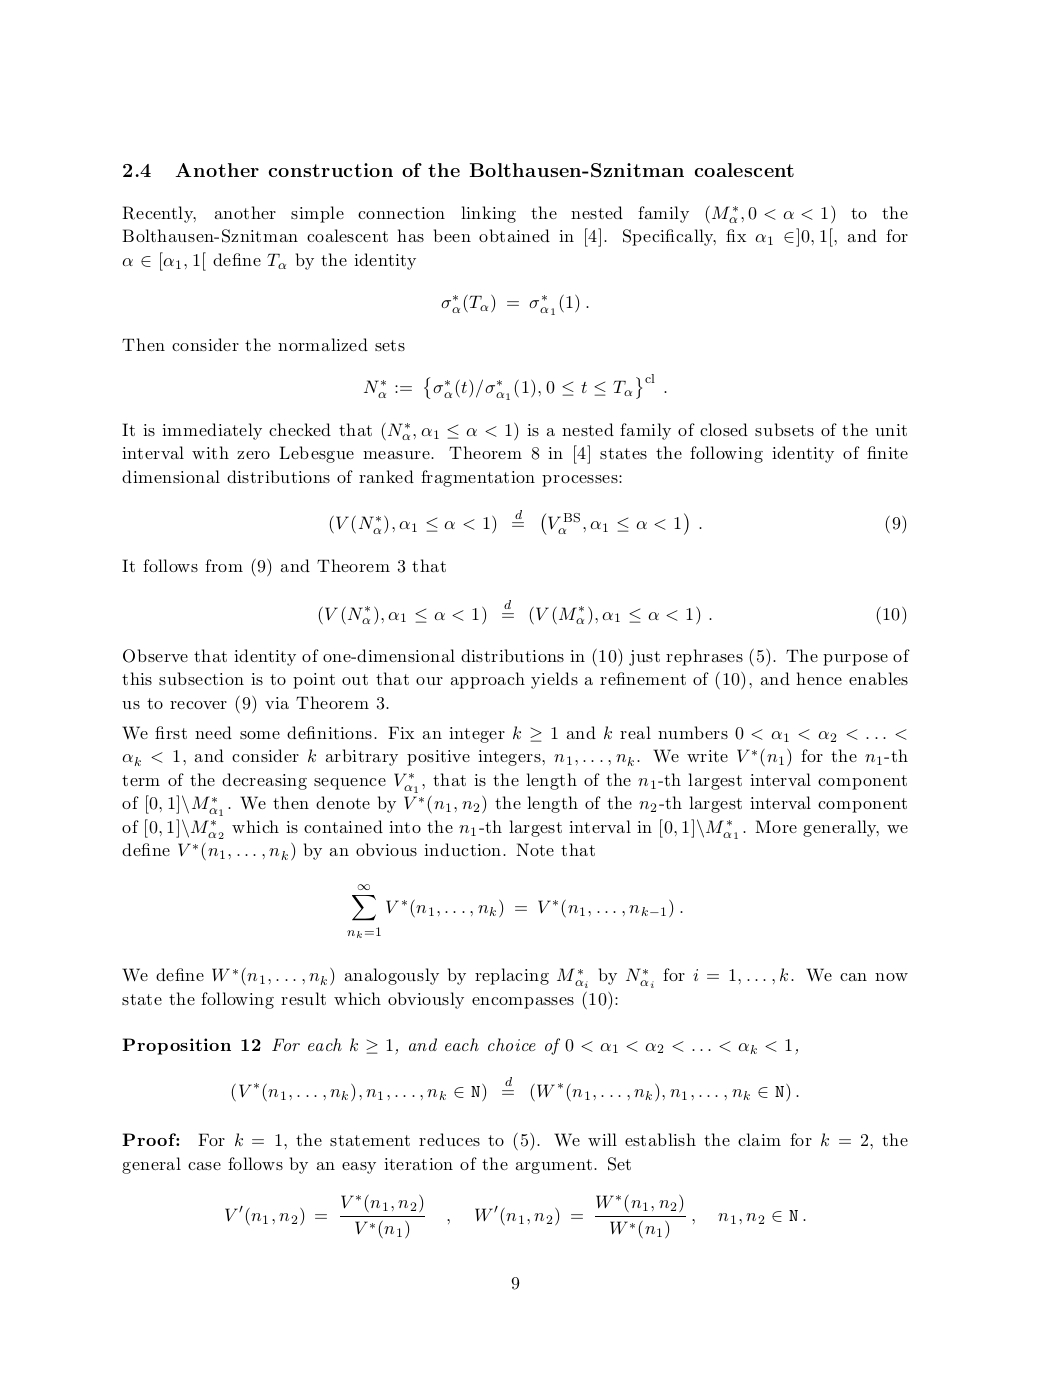formula: (225, 1192, 805, 1239), (347, 884, 682, 937), (318, 598, 906, 625), (329, 509, 906, 535), (231, 1077, 798, 1102), (363, 373, 666, 400), (441, 293, 588, 315)
